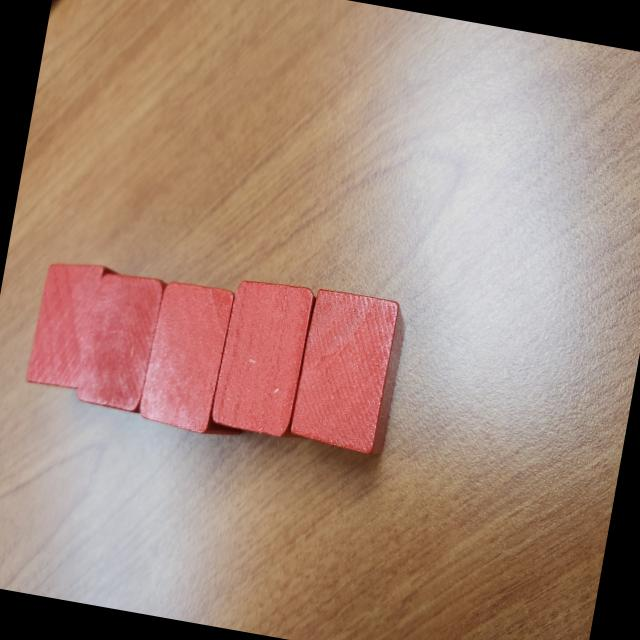red: (286, 286, 409, 460), (208, 274, 316, 440), (135, 278, 237, 438), (74, 268, 168, 412), (23, 254, 118, 396)
